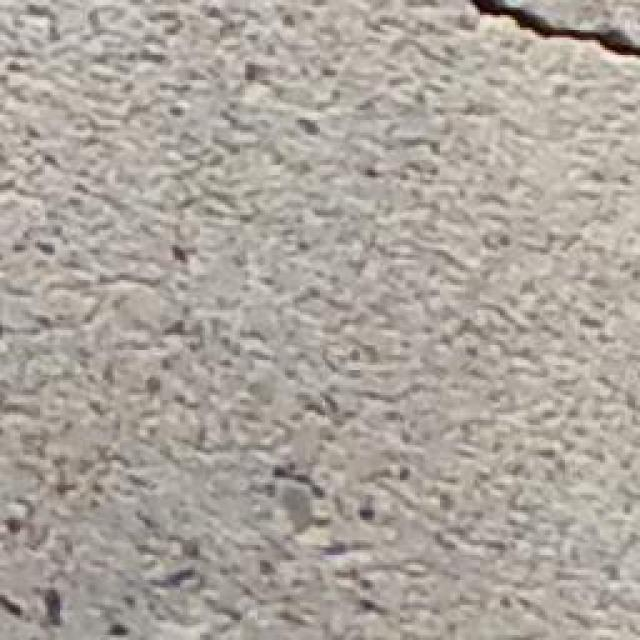concrete-crack: (464, 0, 640, 66)
